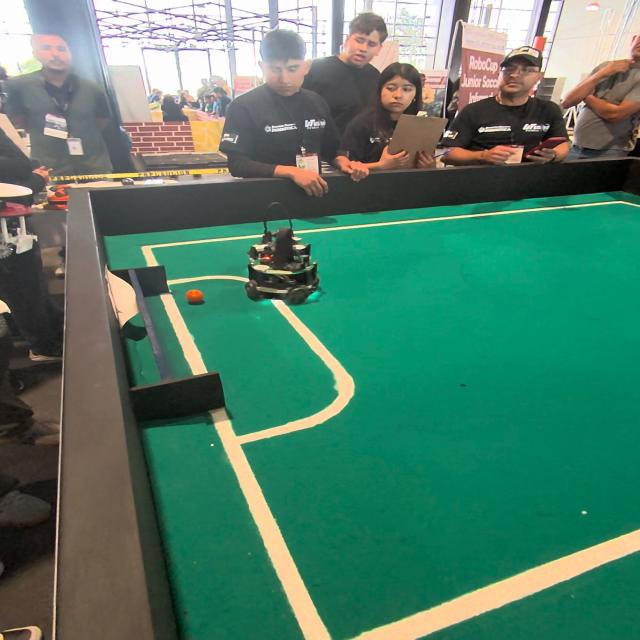Robot: (238, 206, 316, 294), (255, 231, 325, 310)
pelota: (185, 288, 205, 304)
